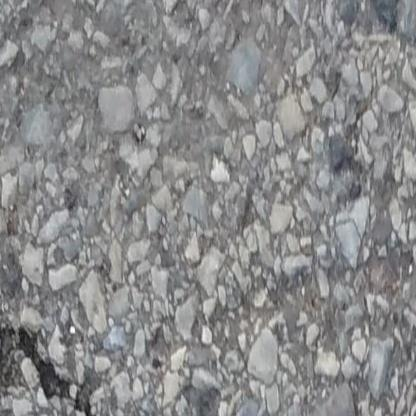Cracks: (0, 314, 116, 416)
